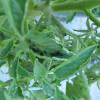Tomato leaf: (51, 44, 99, 78)
